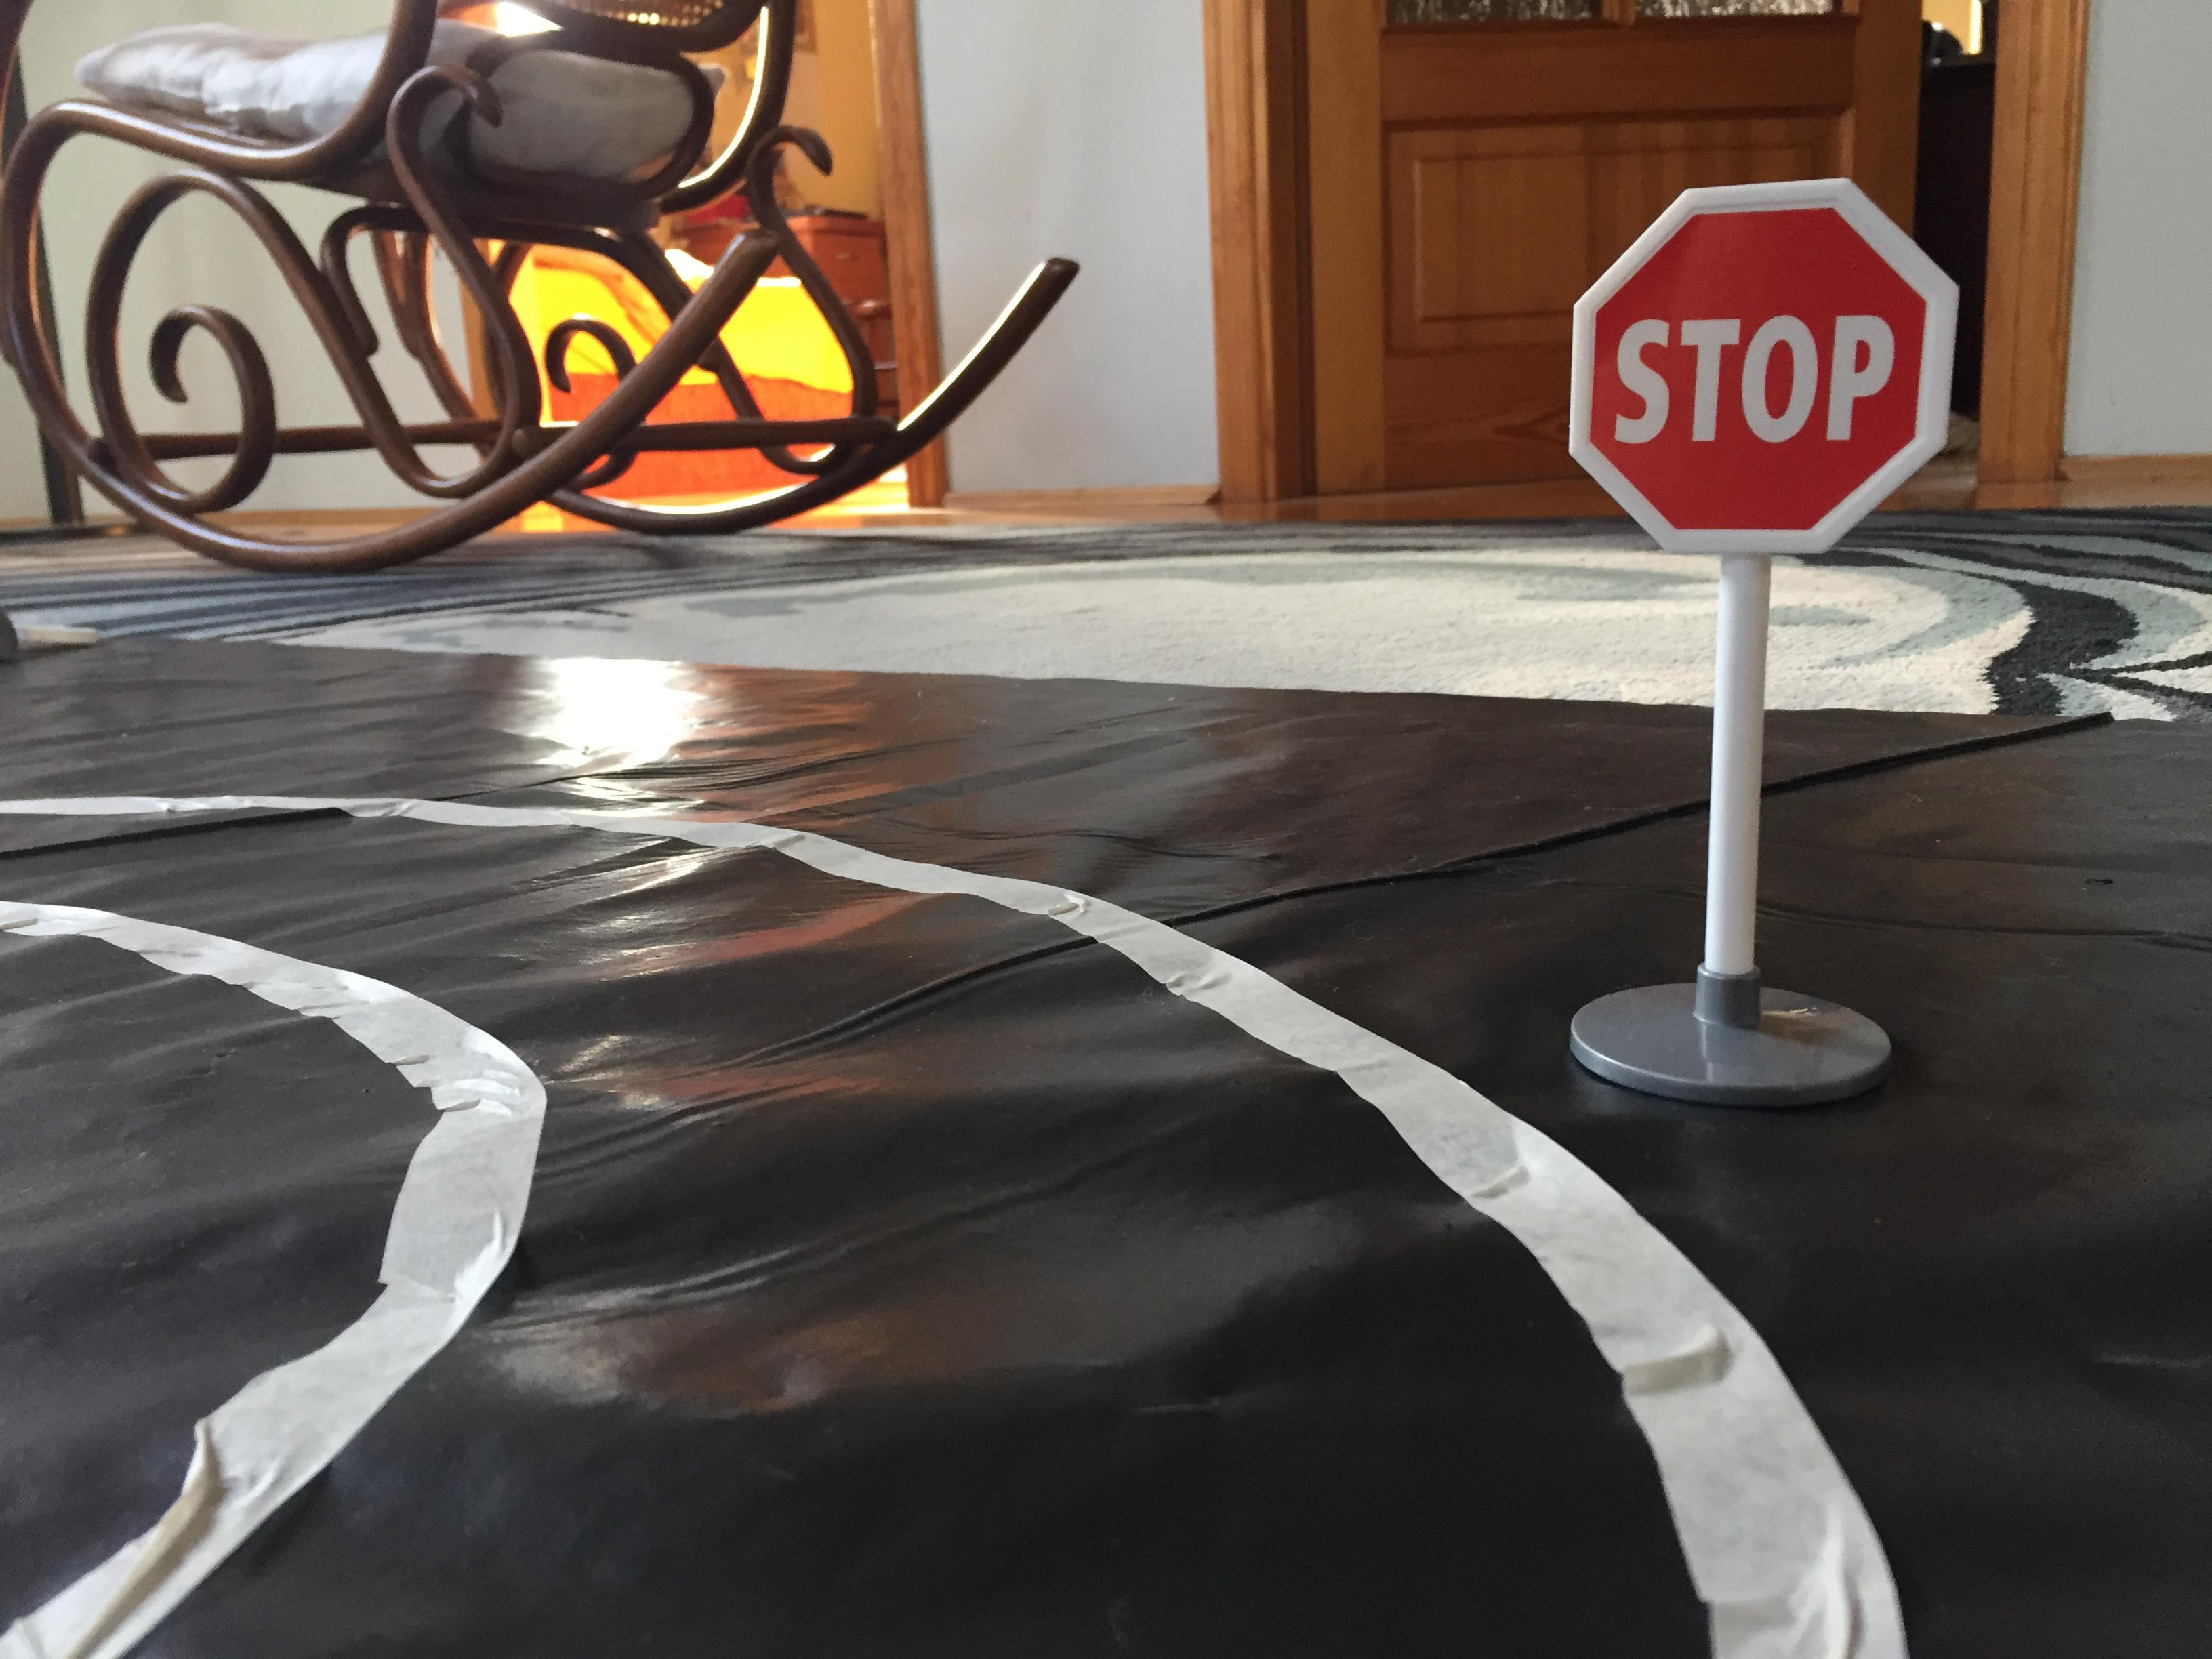stop: (1561, 164, 1968, 565)
